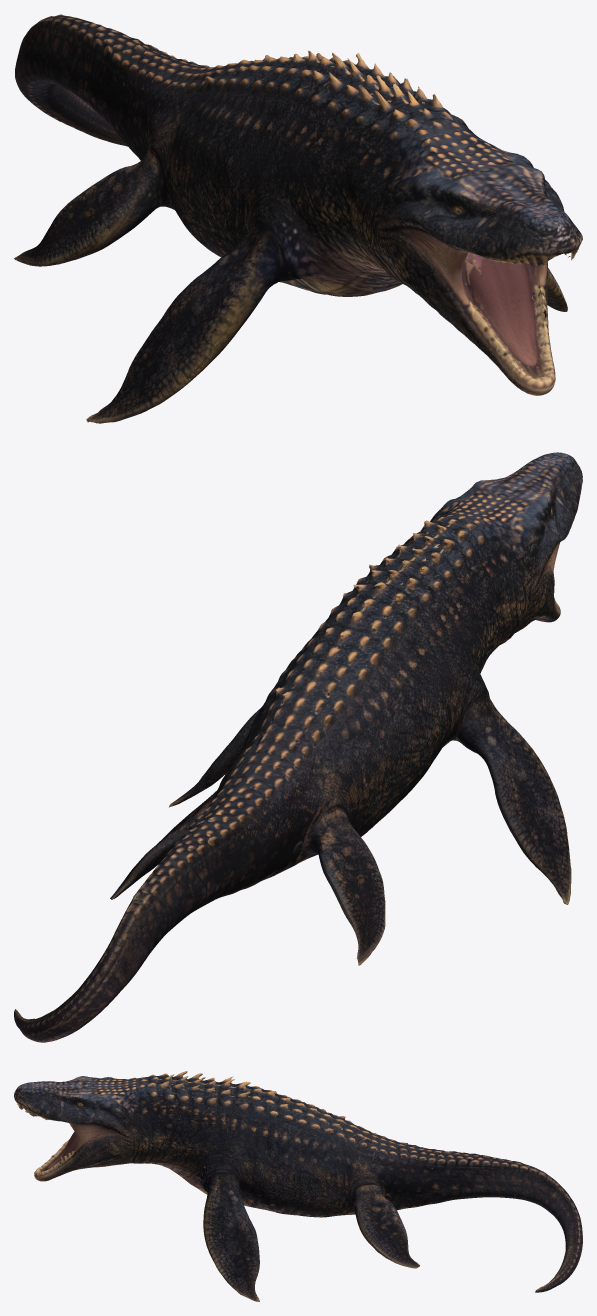
Rendered from SM_mosasaurus_lowpoly.fbx.
The picture shows the model from 3 angles, top to bottom: view 1: azimuth 30°, elevation 25°; view 2: azimuth 150°, elevation 25°; view 3: azimuth 270°, elevation 25°; orthographic projection. The views are drawn at different scales.
Parts seen in each view (by area): view 1: Mesh0; view 2: Mesh0; view 3: Mesh0.
Boxes of the visible parts, <box> form: Mesh0: <box>14,14,582,423</box>; Mesh0: <box>14,452,582,1042</box>; Mesh0: <box>14,1071,582,1301</box>.
Size of the model in its own units: 93.61 by 67.97 by 191.
1 material, 1 textured.
